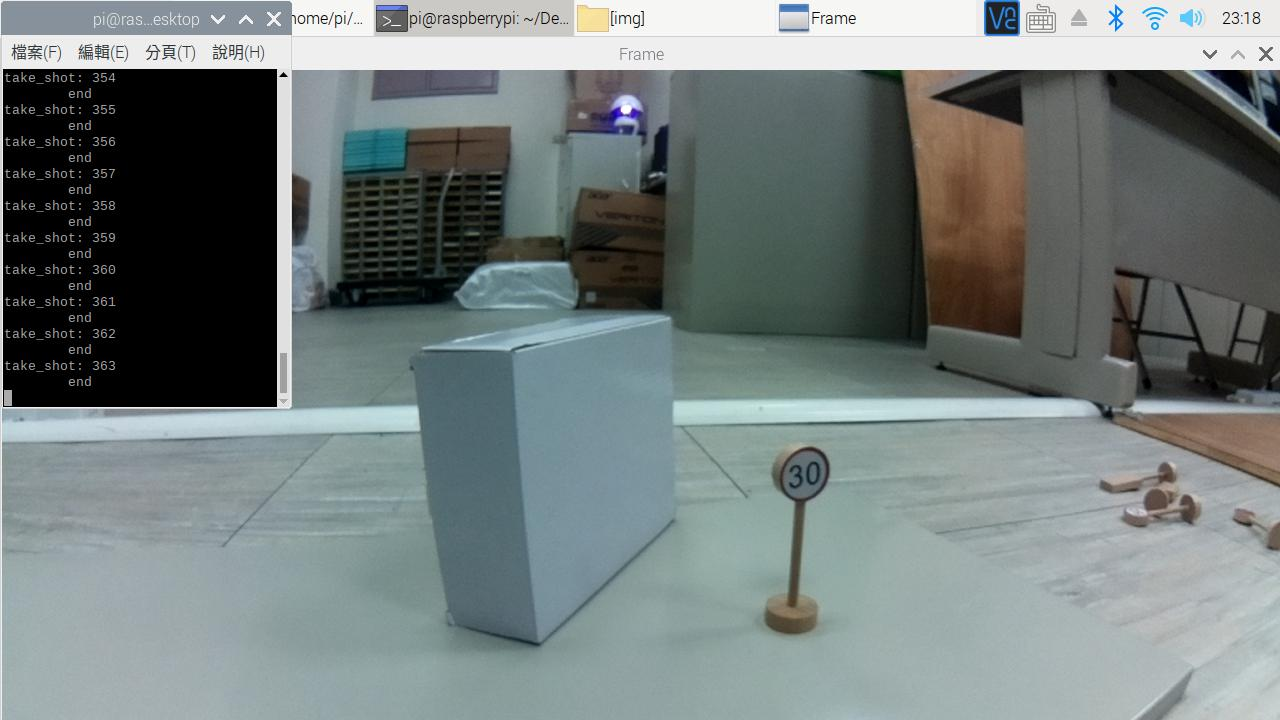Speed30: (759, 439, 853, 514)
